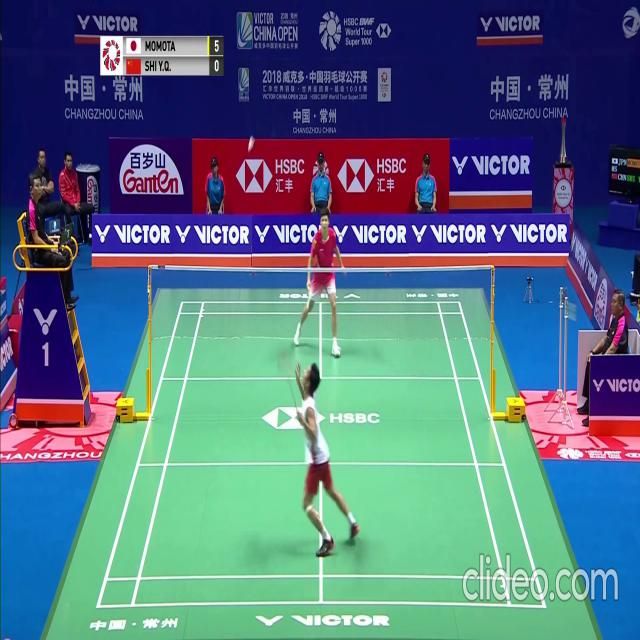Shuttlecock: (248, 142, 252, 150)
